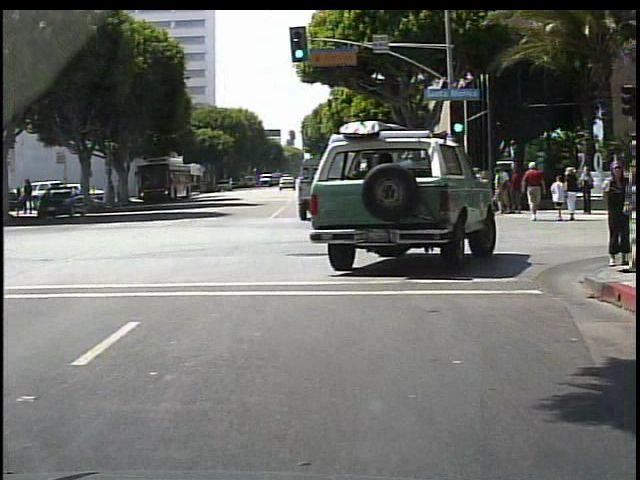person: (600, 163, 631, 268), (619, 140, 640, 265), (522, 162, 545, 224), (549, 174, 570, 226), (566, 166, 582, 223), (578, 166, 594, 218), (465, 167, 481, 216), (509, 165, 524, 216), (492, 168, 506, 214), (498, 165, 510, 211), (455, 166, 466, 215), (116, 179, 125, 207), (108, 179, 117, 202)
